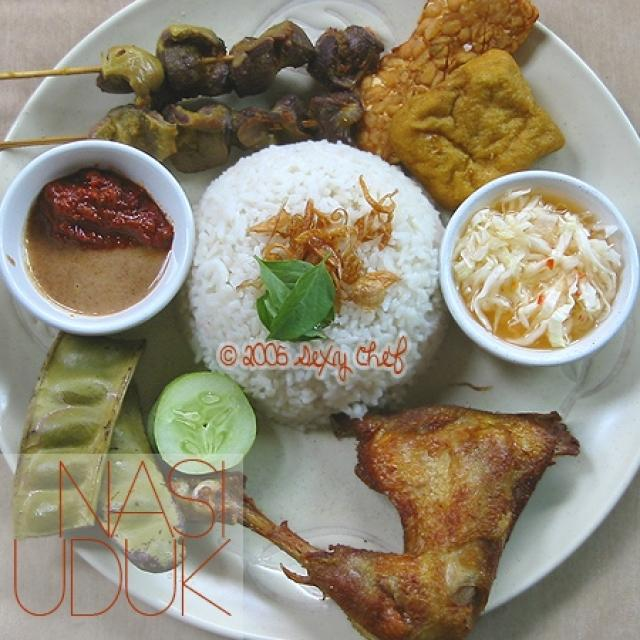米饭主食: (11, 10, 606, 626)
